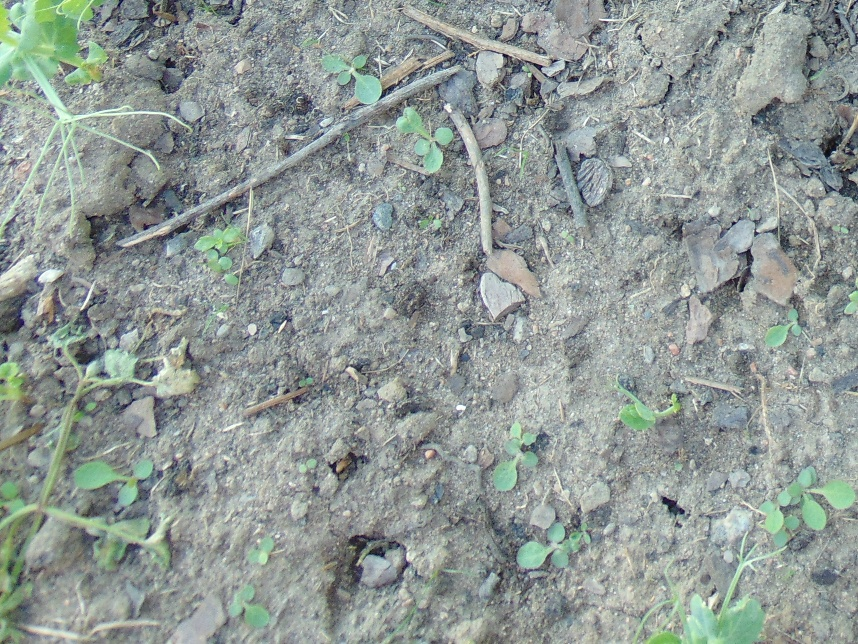crop: (1, 1, 137, 191), (646, 537, 772, 644), (615, 377, 681, 430)
weed: (780, 466, 856, 531), (396, 106, 456, 173), (518, 522, 601, 568), (195, 219, 253, 283), (69, 460, 153, 503), (491, 425, 538, 490), (323, 51, 381, 103), (760, 493, 799, 545), (229, 587, 271, 626), (765, 310, 802, 350), (1, 359, 26, 398), (246, 537, 274, 564)
